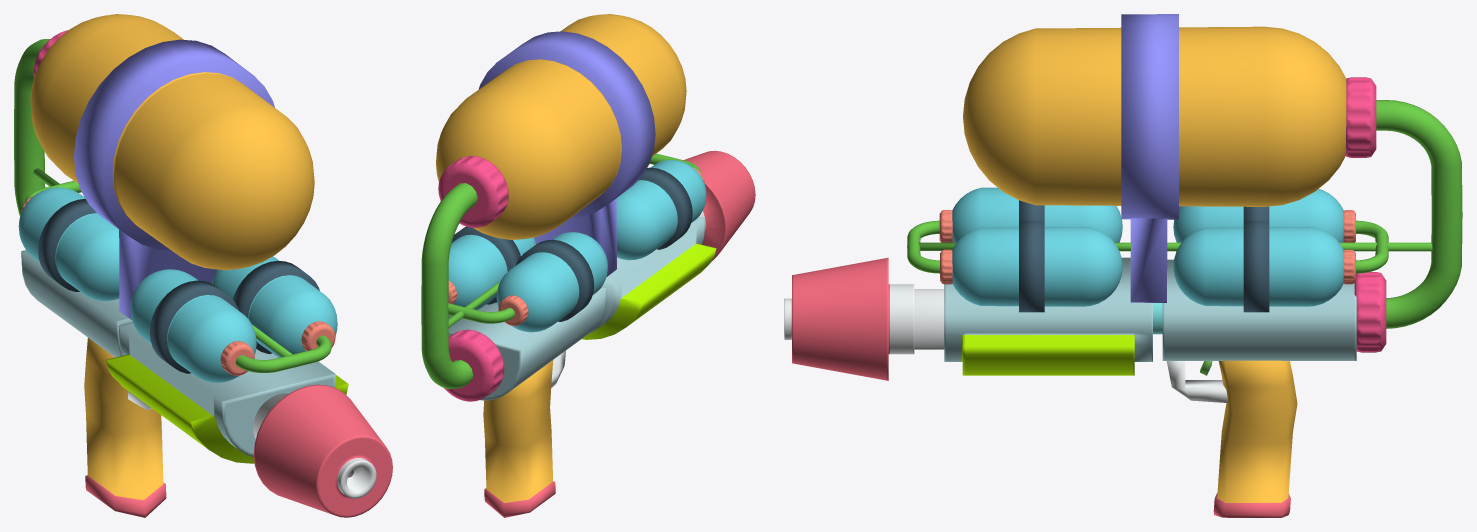
Rendered from Watergun7.fbx.
3 views of the same model, side by side, from view 1: azimuth 30°, elevation 25°; view 2: azimuth 150°, elevation 25°; view 3: azimuth 270°, elevation 25° (orthographic). The views are drawn at different scales.
Parts seen in each view (by area): view 1: Watergun7; view 2: Watergun7; view 3: Watergun7.
Boxes of the visible parts, x1=… form: Watergun7: x1=14, y1=14, x2=392, y2=517; Watergun7: x1=421, y1=14, x2=755, y2=517; Watergun7: x1=784, y1=14, x2=1462, y2=517.
Bounding box in the file's own units: 0.1144 × 0.3015 × 0.3768.
